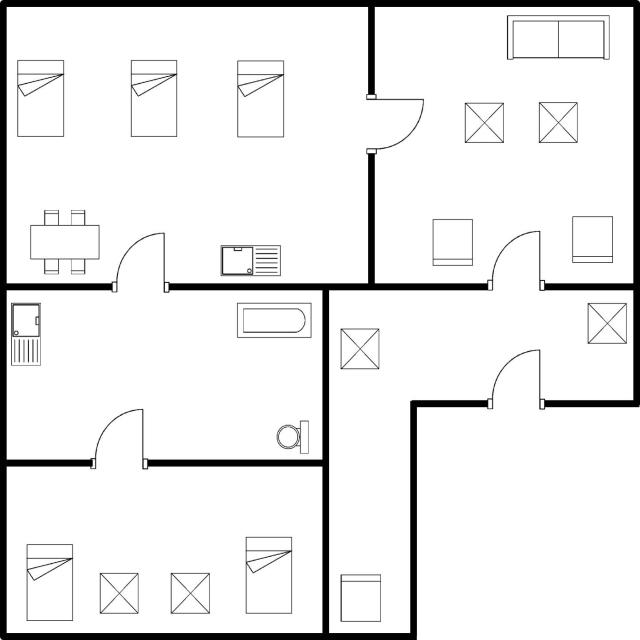bed: (21, 540, 79, 628), (241, 532, 298, 619), (126, 54, 181, 142), (12, 56, 68, 142), (232, 55, 287, 142)
coffee_table: (460, 98, 510, 148), (166, 568, 213, 620), (95, 567, 142, 618), (532, 99, 582, 146), (583, 298, 629, 348), (337, 323, 382, 374)
dining_table: (24, 204, 103, 278)
large_sink: (272, 415, 317, 456)
large_sofa: (503, 11, 614, 65)
sink: (7, 301, 44, 371), (217, 240, 283, 279)
small_sofa: (426, 213, 479, 272), (334, 569, 386, 626), (568, 210, 617, 269)
tub: (231, 298, 315, 343)
